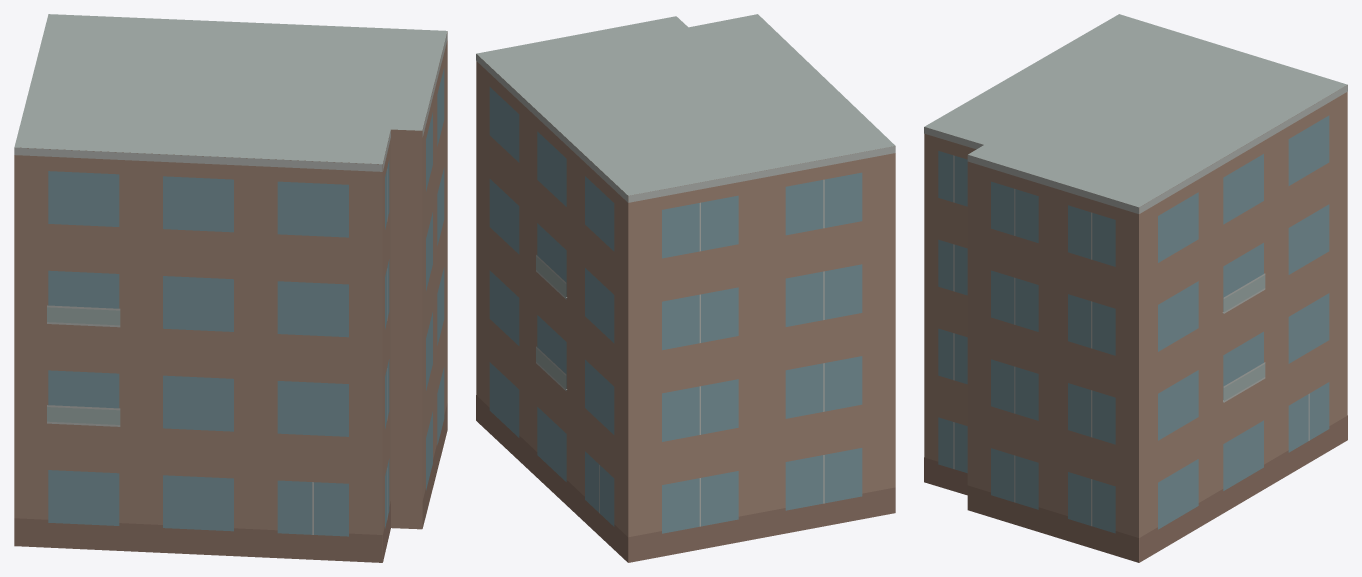
Rendered from survey-upis-32659442.glb.
The picture shows the model from 3 angles, left to right: view 1: azimuth 30°, elevation 25°; view 2: azimuth 150°, elevation 25°; view 3: azimuth 270°, elevation 25°; orthographic projection. The views are drawn at different scales.
Visible parts, largest first — view 1: survey-upis-32659442.tmp; view 2: survey-upis-32659442.tmp; view 3: survey-upis-32659442.tmp.
Boxes of the visible parts, x1,y1,x2,y2 form: survey-upis-32659442.tmp: (14, 14, 447, 562); survey-upis-32659442.tmp: (476, 14, 895, 562); survey-upis-32659442.tmp: (924, 14, 1347, 562).
Bounding box in the file's own units: 14.83 × 12.7 × 13.73.
